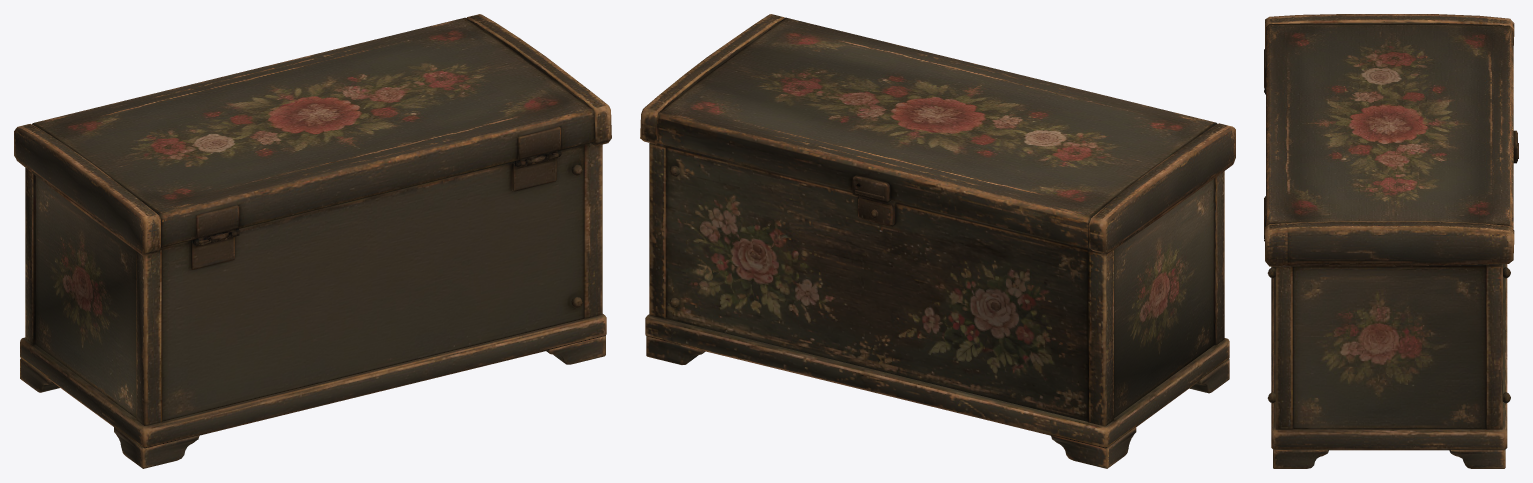
File: furniture-toy-chest.glb
3 views of the same model, side by side, from view 1: azimuth 30°, elevation 25°; view 2: azimuth 150°, elevation 25°; view 3: azimuth 270°, elevation 25° (orthographic). The views are drawn at different scales.
Parts seen in each view (by area): view 1: tripo_node_7c7ea171-534f-4756-bd8c-aad5cfcad00c; view 2: tripo_node_7c7ea171-534f-4756-bd8c-aad5cfcad00c; view 3: tripo_node_7c7ea171-534f-4756-bd8c-aad5cfcad00c.
Part boxes in pixels (x1=…): tripo_node_7c7ea171-534f-4756-bd8c-aad5cfcad00c: x1=14, y1=14, x2=611, y2=468; tripo_node_7c7ea171-534f-4756-bd8c-aad5cfcad00c: x1=640, y1=14, x2=1235, y2=468; tripo_node_7c7ea171-534f-4756-bd8c-aad5cfcad00c: x1=1264, y1=14, x2=1518, y2=468.
Bounding box in the file's own units: 1.3 × 0.68 × 0.65.
1 material, 1 textured.
